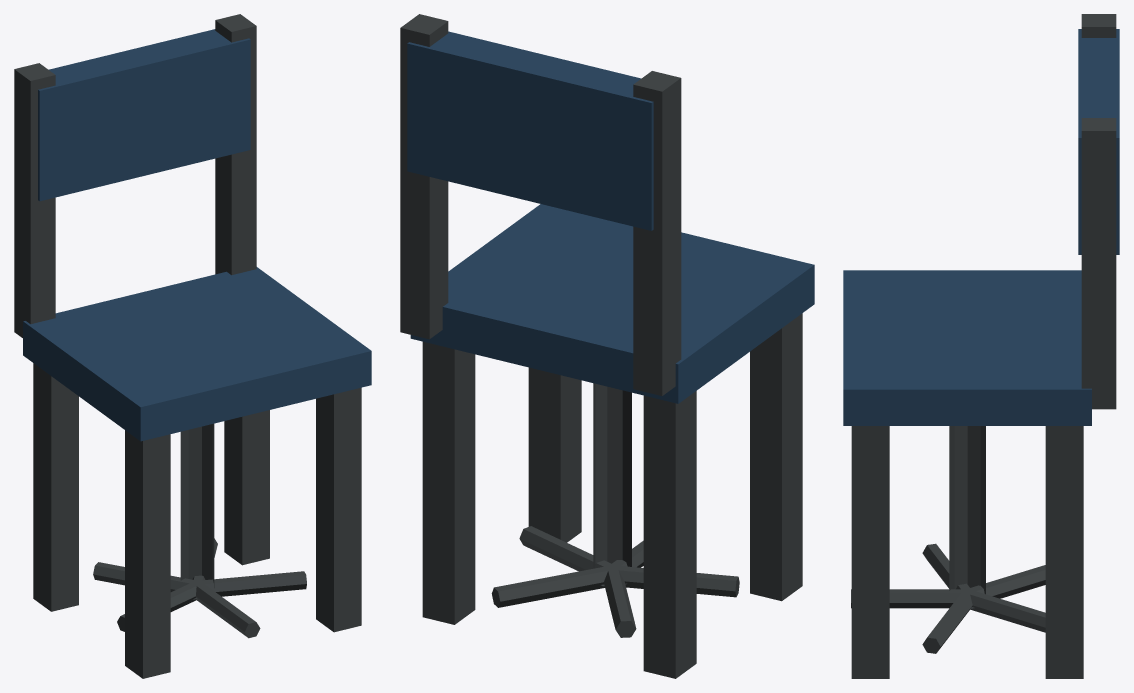
File: salonchair.glb
The picture shows the model from 3 angles, left to right: view 1: azimuth 30°, elevation 25°; view 2: azimuth 150°, elevation 25°; view 3: azimuth 270°, elevation 25°; orthographic projection. The views are drawn at different scales.
Visible parts, largest first — view 1: body; view 2: body; view 3: body.
Boxes of the visible parts, left/top/right/bottom form: body: left=14, top=14, right=371, bottom=678; body: left=400, top=14, right=814, bottom=678; body: left=843, top=14, right=1119, bottom=678.
Bounding box in the file's own units: 0.736 × 1.58 × 0.72.
Materials: 1 (1 with a texture image).
